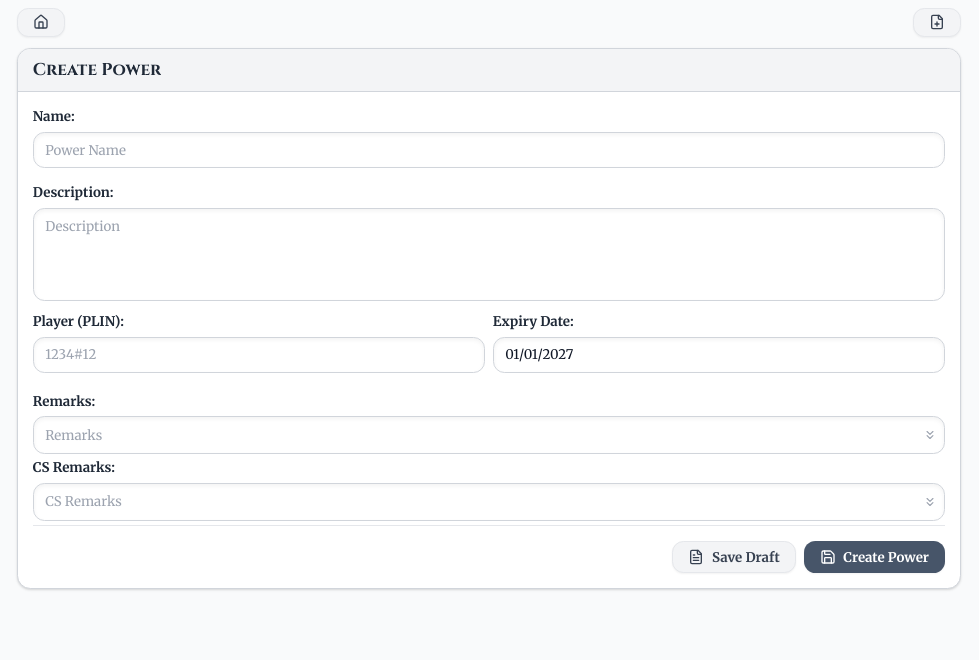
Test case: CreatePower Page › saves draft
In the field with placeholder "Power Name": (489, 150) [33,132,945,168], type "Draft Power"
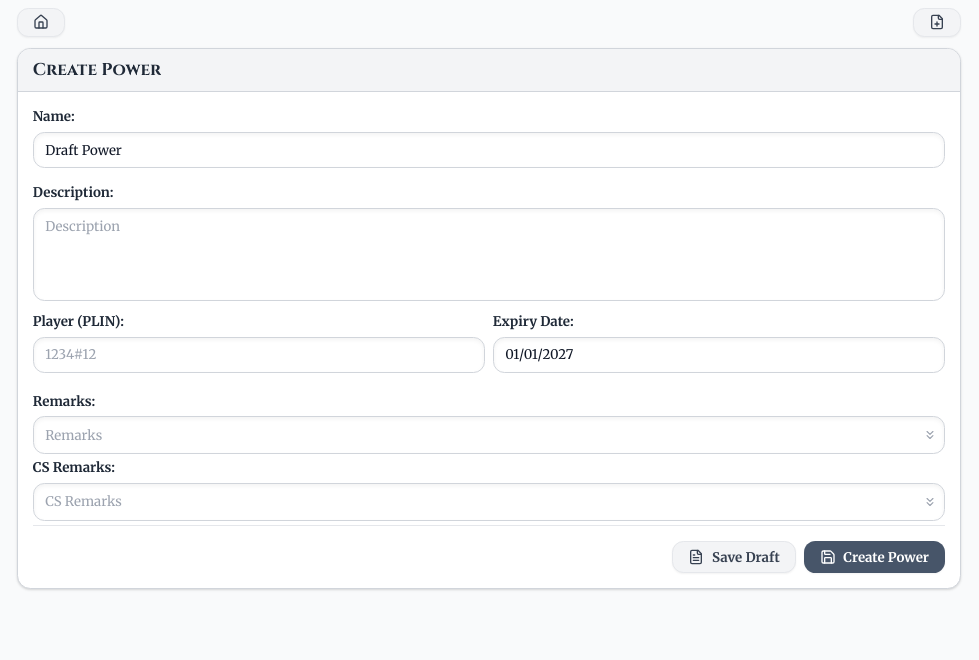
Click the button "Save Draft": (734, 557) [672,541,796,573]
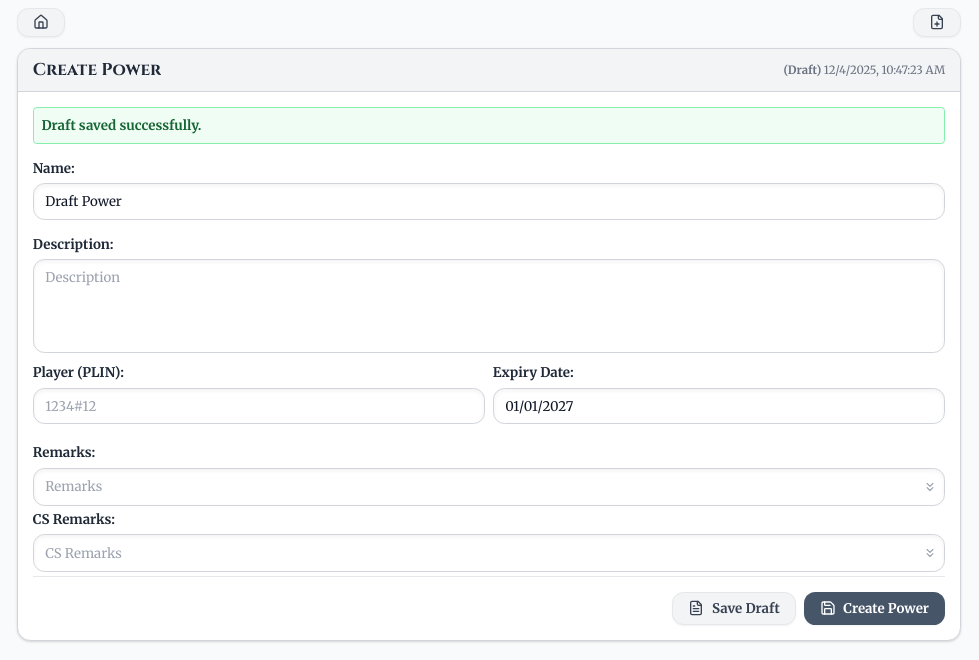
Now the text "Draft saved successfully." is shown, box [41,117,201,134]
